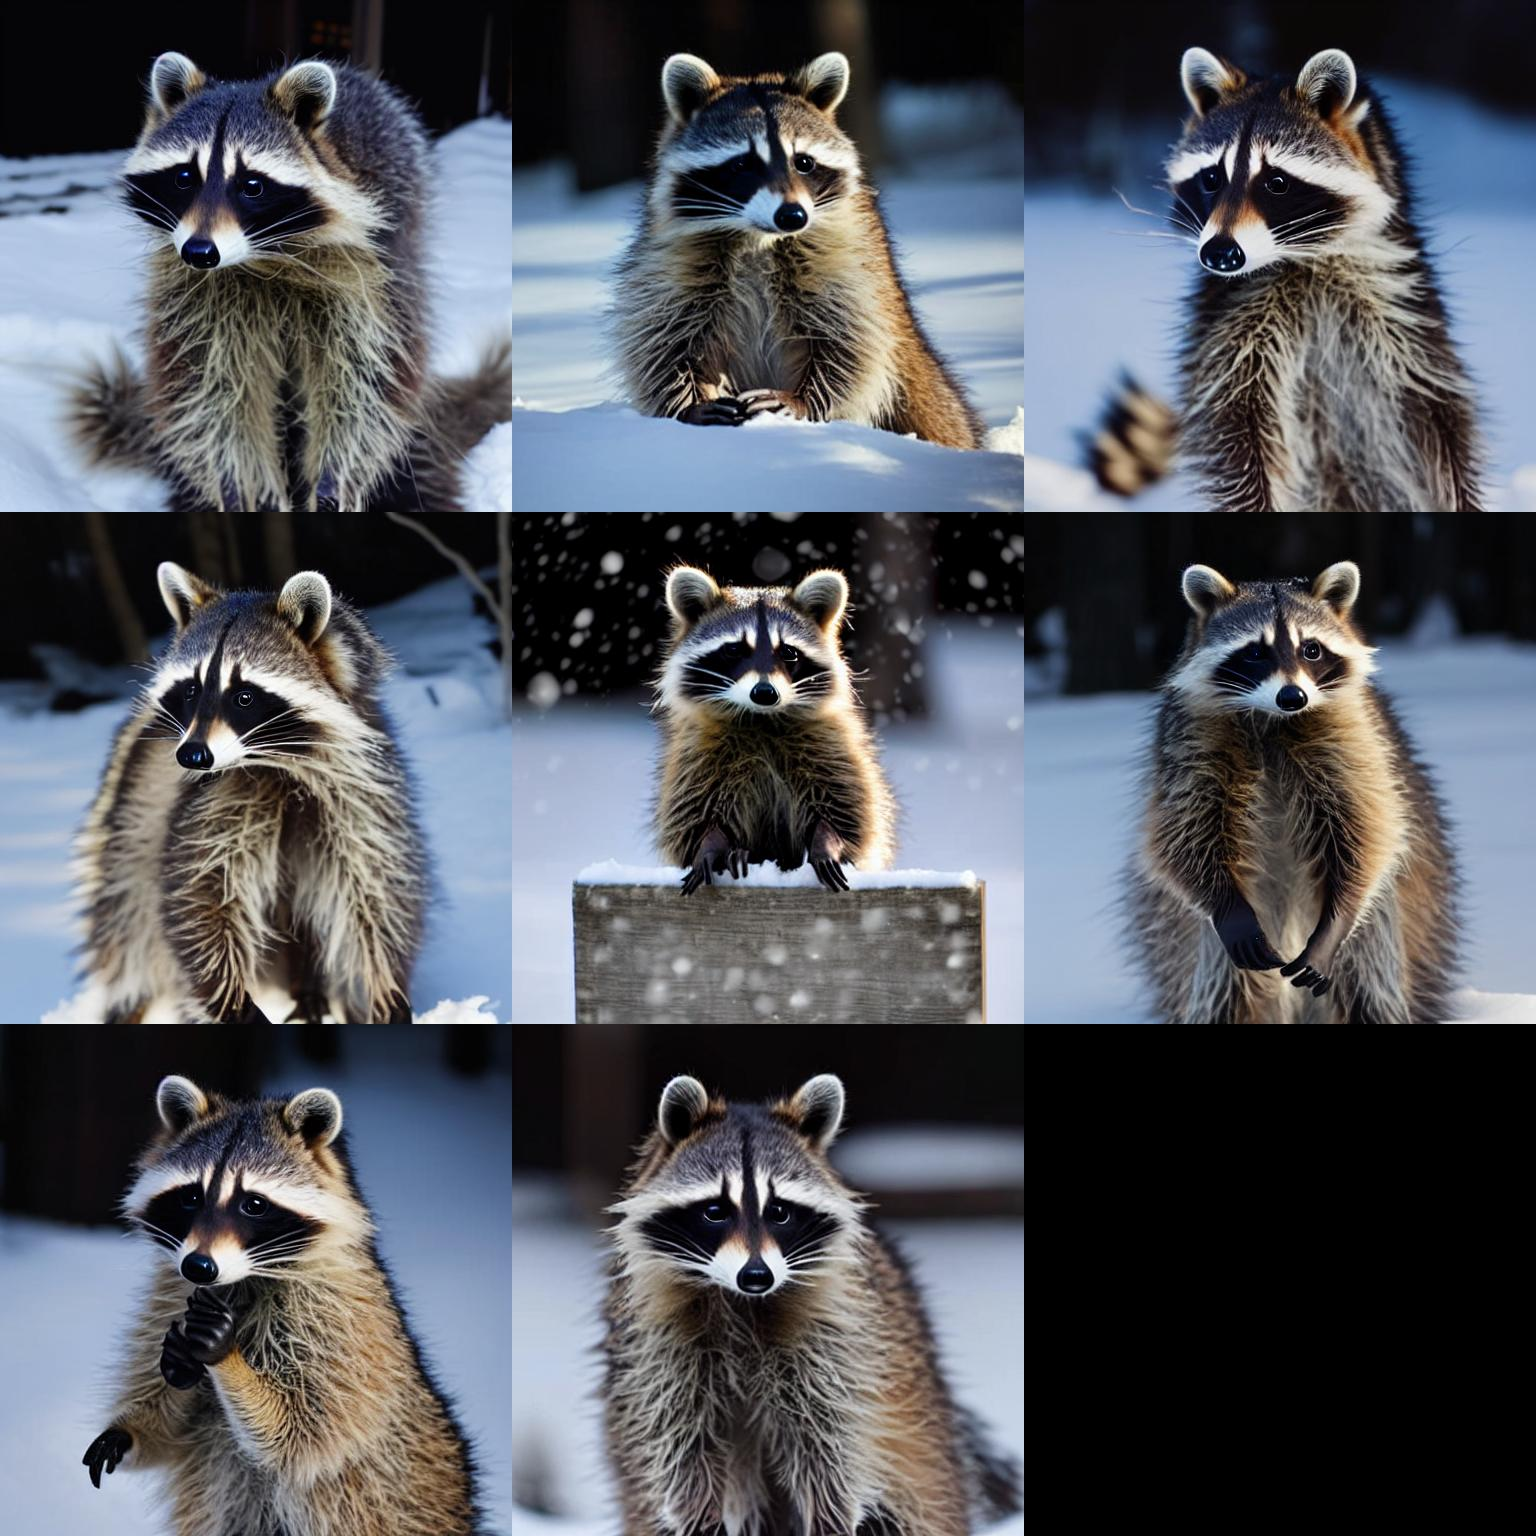raccoon: (595, 1065, 992, 1536), (118, 1073, 492, 1536), (77, 550, 436, 1001), (610, 53, 985, 464), (1156, 41, 1488, 504), (1124, 561, 1461, 1014), (115, 41, 450, 481), (637, 550, 897, 854)
